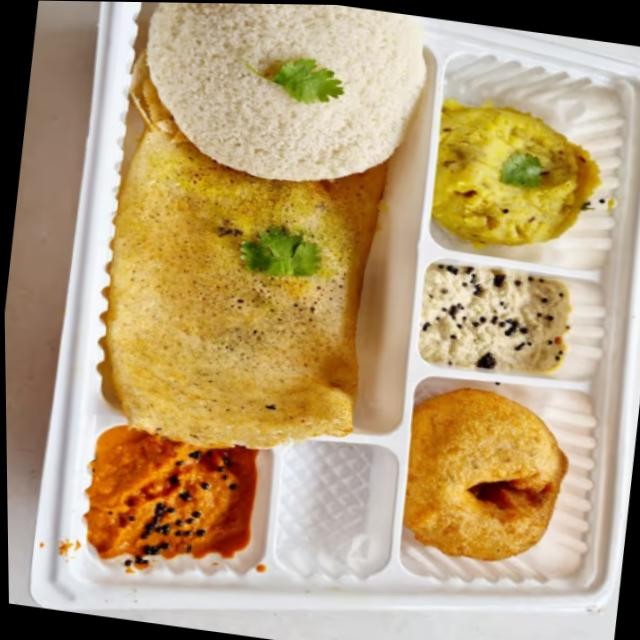DOSA: (107, 102, 387, 446)
IDLI: (153, 2, 423, 178)
PONGAL: (428, 86, 609, 260)
RED CHUTNEY: (83, 423, 253, 559)
VADA: (392, 378, 575, 566)
WHITE CHUTNEY: (427, 258, 577, 378)
